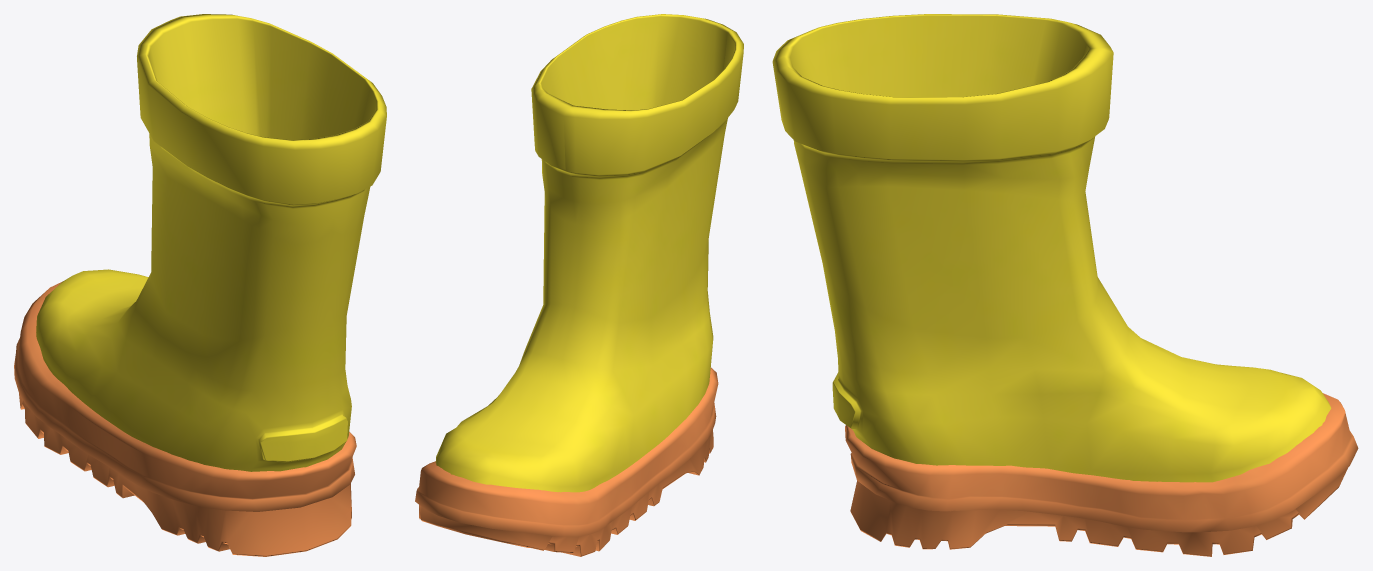
The model's file is BootLeft.fbx.
The picture shows the model from 3 angles, left to right: view 1: azimuth 30°, elevation 25°; view 2: azimuth 150°, elevation 25°; view 3: azimuth 270°, elevation 25°; orthographic projection. The views are drawn at different scales.
Visible parts, largest first — view 1: Cube.015; view 2: Cube.015; view 3: Cube.015.
Boxes of the visible parts, x1=… form: Cube.015: x1=14, y1=14, x2=386, y2=556; Cube.015: x1=415, y1=14, x2=743, y2=556; Cube.015: x1=772, y1=14, x2=1358, y2=556.
Bounding box in the file's own units: 272 × 625 × 712.
